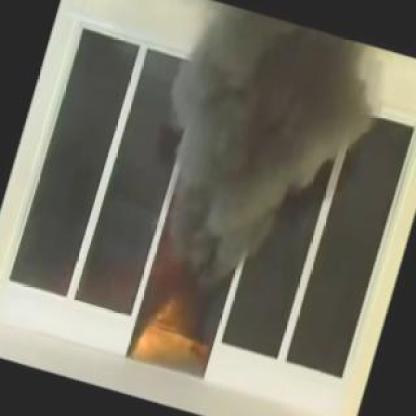Smoke: (161, 11, 386, 283)
